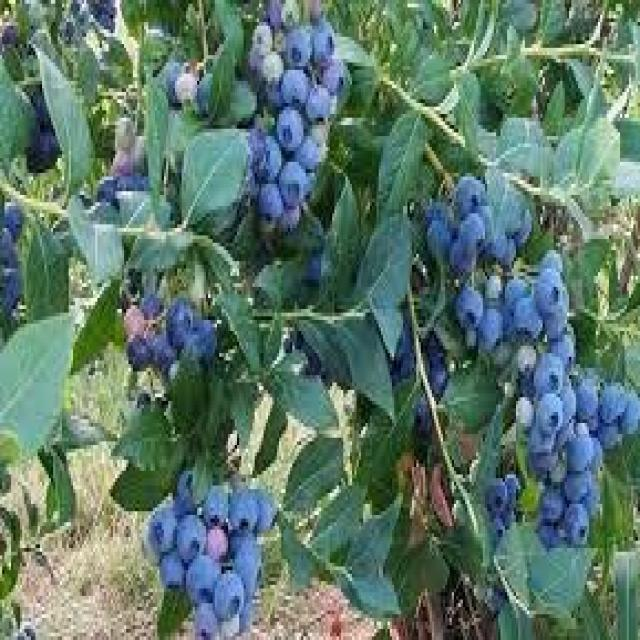BlueBerry - v1: (230, 537, 266, 596), (310, 11, 341, 74), (226, 486, 259, 544), (148, 504, 182, 559), (274, 103, 308, 158), (277, 154, 310, 210), (476, 305, 507, 364), (213, 570, 248, 622), (155, 548, 188, 603), (534, 261, 567, 316), (254, 132, 286, 188), (173, 515, 208, 566), (596, 372, 629, 426), (172, 463, 202, 522), (200, 478, 230, 537), (452, 283, 485, 335), (560, 500, 592, 552), (279, 62, 312, 110), (299, 125, 332, 173), (450, 169, 482, 217), (512, 294, 544, 342), (567, 427, 596, 478), (500, 272, 536, 313), (573, 372, 598, 431), (427, 214, 454, 268), (257, 177, 288, 224), (162, 298, 195, 342), (532, 390, 562, 438), (306, 81, 336, 129), (120, 302, 152, 346), (536, 353, 565, 401), (126, 331, 155, 379), (188, 596, 219, 640), (252, 496, 282, 540), (448, 239, 478, 283), (509, 393, 538, 438), (286, 22, 312, 70), (193, 320, 219, 368), (202, 522, 230, 566), (542, 305, 572, 346), (556, 372, 578, 426), (540, 482, 567, 526), (261, 48, 288, 92), (551, 331, 578, 375), (133, 522, 157, 570), (563, 460, 589, 504), (173, 66, 199, 110), (461, 210, 487, 253), (150, 342, 180, 379), (622, 382, 640, 442), (323, 59, 350, 99), (481, 268, 507, 309), (426, 350, 448, 398), (197, 66, 217, 118), (277, 199, 303, 239), (538, 242, 565, 280), (250, 15, 275, 55), (97, 169, 124, 206), (0, 228, 20, 276), (485, 474, 507, 515), (115, 114, 137, 155), (485, 228, 507, 269), (516, 338, 538, 379), (414, 393, 434, 438), (2, 195, 22, 239), (394, 335, 416, 375), (277, 0, 303, 33), (596, 416, 618, 452), (489, 508, 512, 530), (505, 467, 520, 500)
